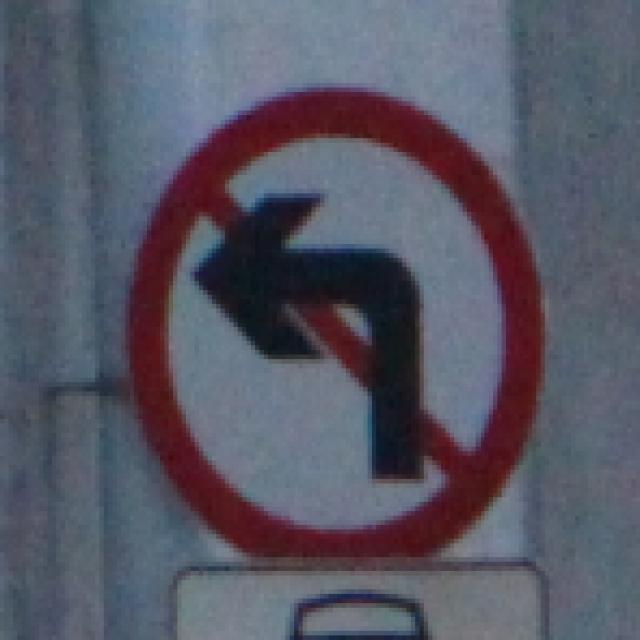Not that Direction: (126, 81, 548, 561)
